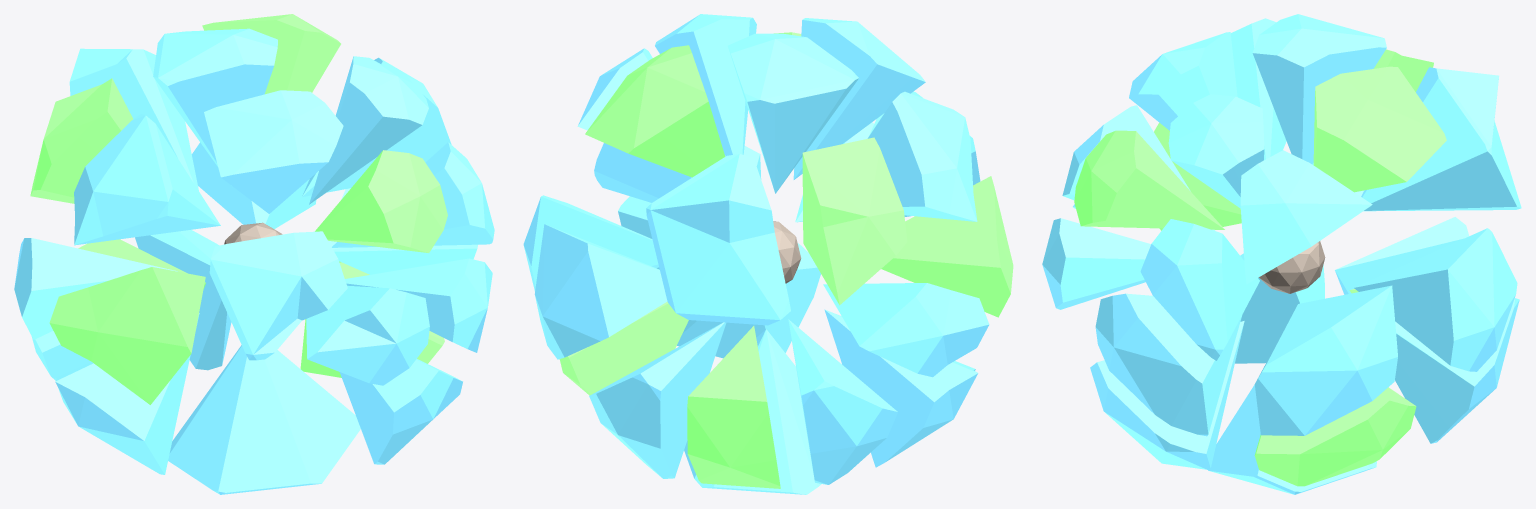
The model's file is planet_4(pivot_for_animation).fbx.
3 renders of one model, left to right at view 1: azimuth 30°, elevation 25°; view 2: azimuth 150°, elevation 25°; view 3: azimuth 270°, elevation 25°, orthographic.
Parts seen in each view (by area): view 1: planet4; view 2: planet4; view 3: planet4.
Part boxes in pixels (x1,y1,x2,y2): planet4: (14, 14, 494, 494); planet4: (523, 14, 1013, 494); planet4: (1042, 14, 1521, 494).
Bounding box in the file's own units: 250 × 245 × 239.
